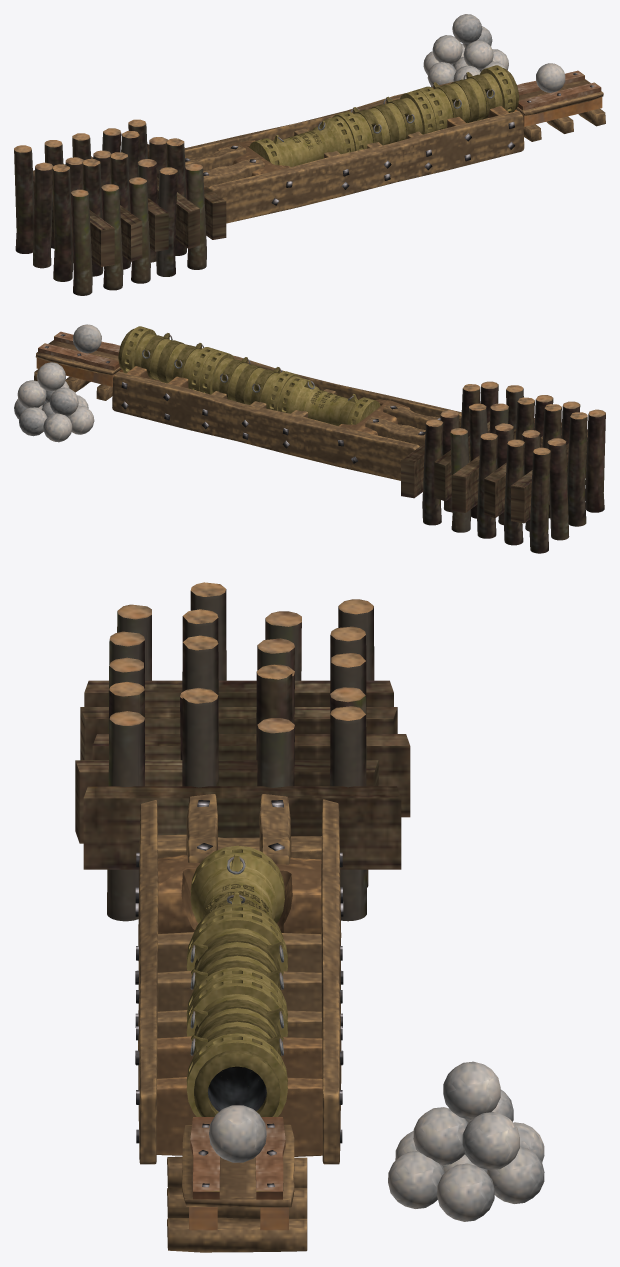
3 renders of one model, top to bottom at view 1: azimuth 30°, elevation 25°; view 2: azimuth 150°, elevation 25°; view 3: azimuth 270°, elevation 25°, orthographic. The views are drawn at different scales.
Parts seen in each view (by area): view 1: Material3, Material1, Material2; view 2: Material3, Material1, Material2; view 3: Material3, Material1, Material2.
Boxes of the visible parts, <box> form: Material3: <box>14,14,605,295</box>; Material1: <box>184,79,524,223</box>; Material2: <box>249,65,519,166</box>; Material3: <box>14,324,605,553</box>; Material1: <box>112,344,461,480</box>; Material2: <box>118,326,380,425</box>; Material3: <box>75,582,544,1252</box>; Material1: <box>135,794,343,1164</box>; Material2: <box>186,845,287,1116</box>.
Bounding box in the file's own units: 404 × 78.04 × 155.
3 materials, 3 textured.
